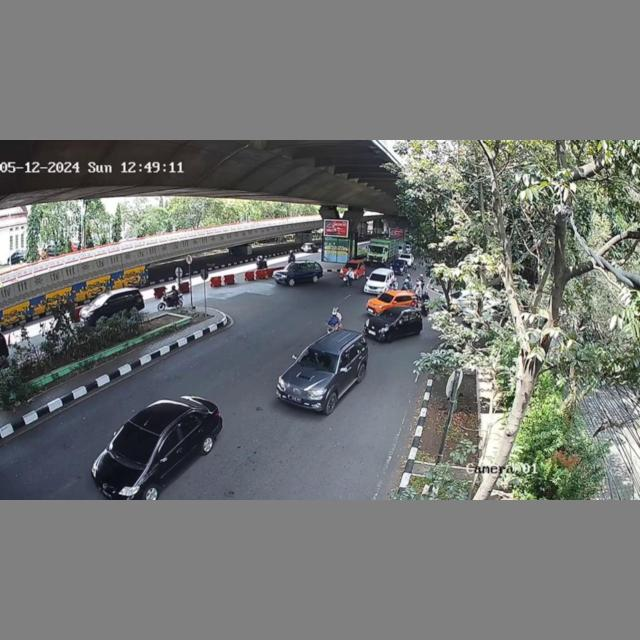windshield: (109, 425, 164, 463), (298, 347, 339, 375)
